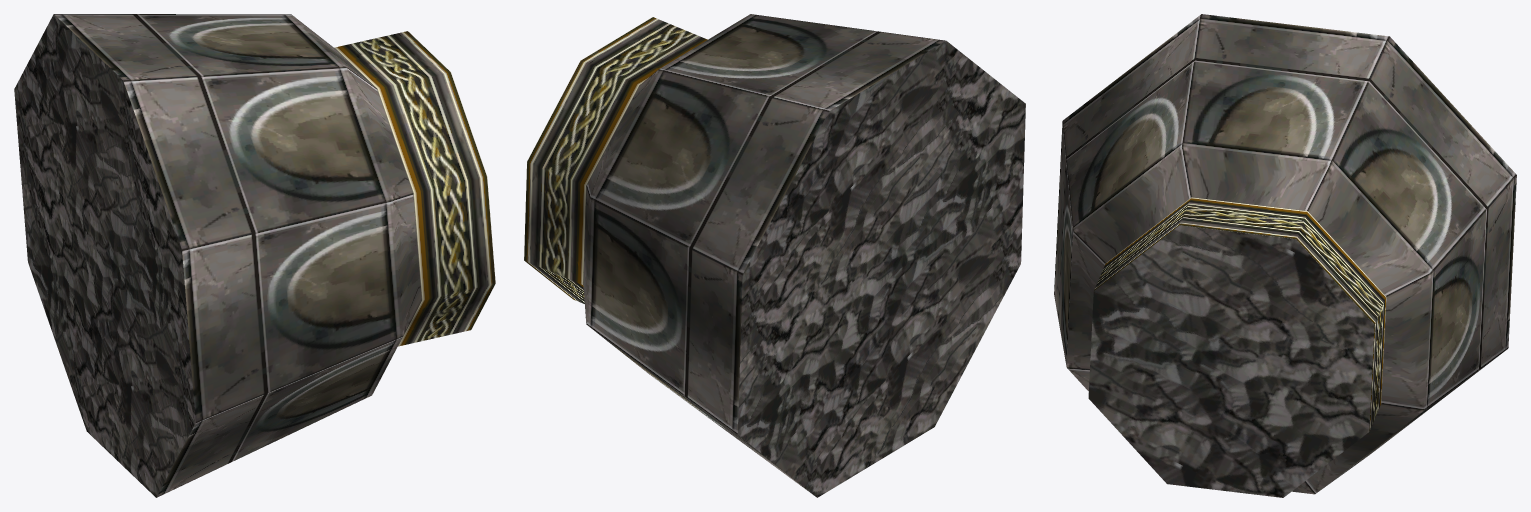
The model's file is INST_SM_COLUMN_BROKEN_PIECEA.fbx.
3 views of the same model, side by side, from view 1: azimuth 30°, elevation 25°; view 2: azimuth 150°, elevation 25°; view 3: azimuth 270°, elevation 25° (orthographic). The views are drawn at different scales.
Parts seen in each view (by area): view 1: INST_SM_COLUMN_BROKEN_PIECEA; view 2: INST_SM_COLUMN_BROKEN_PIECEA; view 3: INST_SM_COLUMN_BROKEN_PIECEA.
Part boxes in pixels (x1,y1,x2,y2): INST_SM_COLUMN_BROKEN_PIECEA: [14, 14, 495, 497]; INST_SM_COLUMN_BROKEN_PIECEA: [524, 14, 1025, 497]; INST_SM_COLUMN_BROKEN_PIECEA: [1054, 14, 1516, 497].
Bounding box in the file's own units: 27211 × 30206 × 30332.
Materials: 3 (3 with a texture image).
